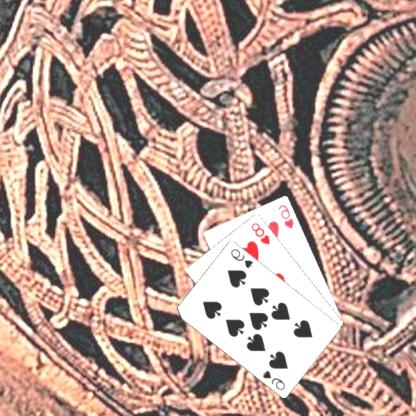6H: (278, 202, 298, 230)
8H: (250, 219, 273, 245)
9S: (262, 367, 288, 392), (229, 246, 256, 269)
